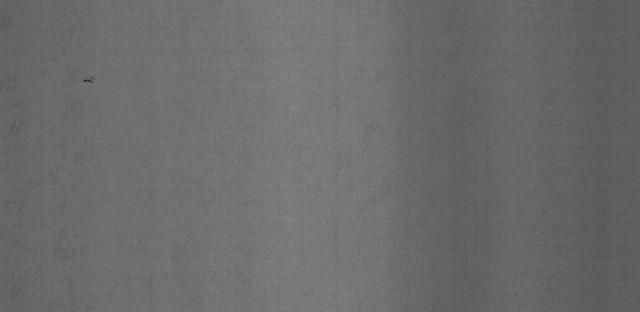inclusion: (77, 72, 99, 88)
